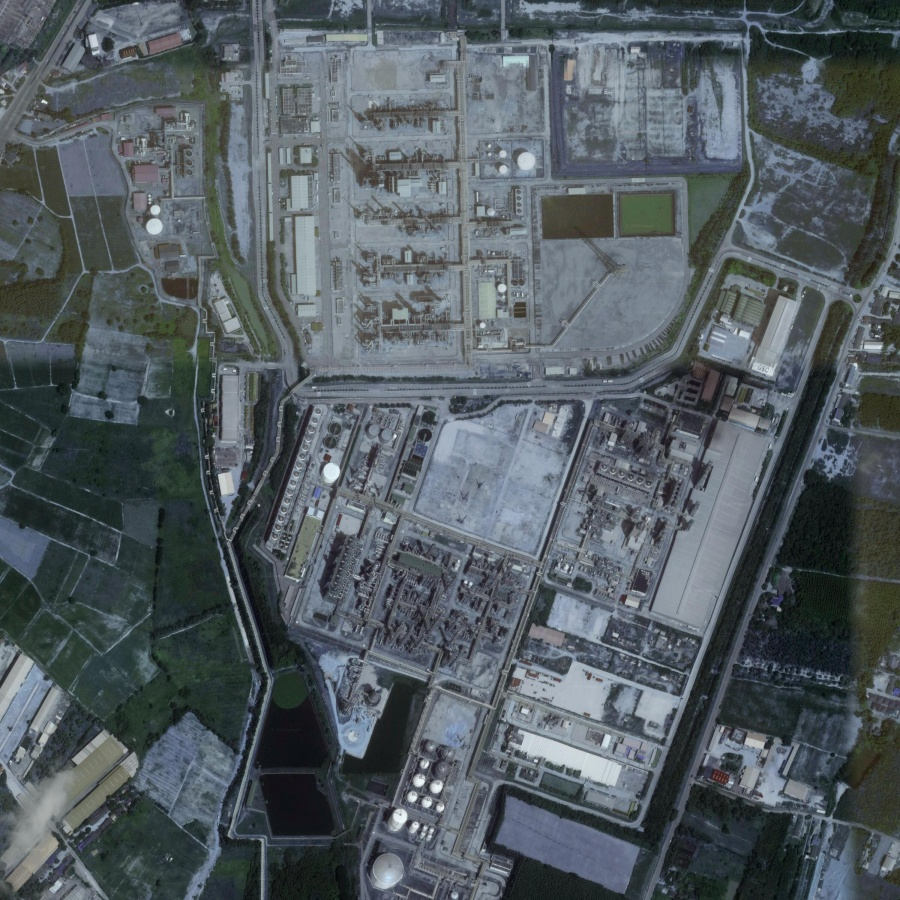PowerPlant: (343, 80, 537, 268)
